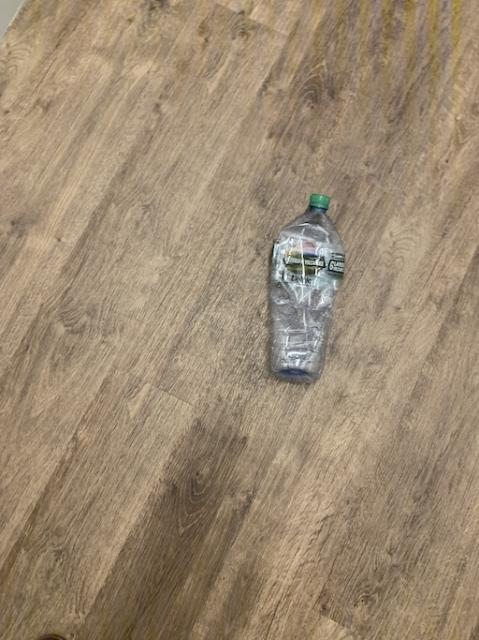plastic: (269, 193, 344, 380)
